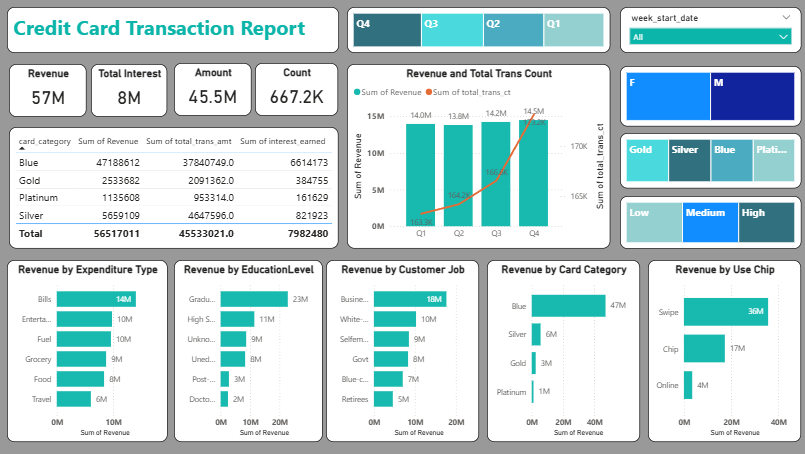

The page's visual inventory and layout, read from the dashboard file:
{"tool":"powerbi","page":{"name":"Credit_Card_Transaction","canvas":[1280,720],"ordinal":1},"visuals":[{"type":"textbox","box":[10.7,10.7,526.8,73.2],"z":0},{"type":"lineStackedColumnComboChart","title":" Revenue and Total Trans Count","fields":{"Category":["public cc_detail.qtr"],"Y":["Sum(public cc_detail.Revenue)"],"Y2":["Sum(public cc_detail.total_trans_ct)"]},"box":[550,101.8,417.9,292.9],"z":1000},{"type":"barChart","title":"Revenue by Expenditure Type","fields":{"Category":["public cc_detail.exp_type"],"Y":["Sum(public cc_detail.Revenue)"]},"box":[10.7,412.5,255.4,289.3],"z":2000},{"type":"barChart","title":"Revenue by EducationLevel","fields":{"Category":["public cust_detail.education_level"],"Y":["Sum(public cc_detail.Revenue)"]},"box":[276.8,412.5,235.7,289.3],"z":3000},{"type":"barChart","title":"Revenue by Customer Job","fields":{"Category":["public cust_detail.customer_job"],"Y":["Sum(public cc_detail.Revenue)"]},"box":[517.9,412.5,242.9,289.3],"z":4000},{"type":"barChart","title":"Revenue by Card Category","fields":{"Category":["public cc_detail.card_category"],"Y":["Sum(public cc_detail.Revenue)"]},"box":[773.2,412.5,242.9,289.3],"z":5000},{"type":"barChart","title":"Revenue by Use Chip","fields":{"Category":["public cc_detail.use_chip"],"Y":["Sum(public cc_detail.Revenue)"]},"box":[1028.6,412.5,242.9,289.3],"z":6000},{"type":"tableEx","fields":{"Values":["public cc_detail.card_category","Sum(public cc_detail.Revenue)","Sum(public cc_detail.total_trans_amt)","Sum(public cc_detail.interest_earned)"]},"box":[14.3,201.8,523.2,192.9],"z":7000},{"type":"slicer","fields":{"Values":["public cc_detail.week_start_date"]},"box":[983.9,10.7,287.5,73.2],"z":8000},{"type":"card","title":"Revenue","fields":{"Values":["Sum(public cc_detail.Revenue)"]},"box":[14.3,101.8,123.2,83.9],"z":9000},{"type":"card","title":"Total Interest","fields":{"Values":["Sum(public cc_detail.interest_earned)"]},"box":[144.6,101.8,121.4,83.9],"z":10000},{"type":"card","title":"Amount","fields":{"Values":["Sum(public cc_detail.total_trans_amt)"]},"box":[276.8,100,123.2,83.9],"z":11000},{"type":"card","title":"Count","fields":{"Values":["Sum(public cc_detail.total_trans_ct)"]},"box":[405.4,100,132.1,83.9],"z":12000},{"type":"treemap","fields":{"Group":["public cc_detail.qtr"],"Values":["Avg(public cc_detail.client_num)"]},"box":[550,10.7,417.9,73.2],"z":13000},{"type":"treemap","fields":{"Values":["Avg(public cc_detail.client_num)"],"Group":["public cust_detail.gender"]},"box":[983.9,105.4,287.5,96.4],"z":14000},{"type":"treemap","fields":{"Group":["public cc_detail.card_category"],"Values":["Avg(public cc_detail.client_num)"]},"box":[983.9,210.7,287.5,87.5],"z":15000},{"type":"treemap","fields":{"Group":["public cust_detail.IncomeGroup"],"Values":["Avg(public cc_detail.client_num)"]},"box":[983.9,310.7,287.5,83.9],"z":16000}]}

Visuals, with their boxes in screenshot pixels (x1, y1, x2, y2), scaled from the page's 1280x720 canvas onto the 805x454 screenshot:
textbox: (left=7, top=7, right=338, bottom=53)
" Revenue and Total Trans Count" lineStackedColumnComboChart: (left=346, top=64, right=609, bottom=249)
"Revenue by Expenditure Type" barChart: (left=7, top=260, right=167, bottom=443)
"Revenue by EducationLevel" barChart: (left=174, top=260, right=322, bottom=443)
"Revenue by Customer Job" barChart: (left=326, top=260, right=478, bottom=443)
"Revenue by Card Category" barChart: (left=486, top=260, right=639, bottom=443)
"Revenue by Use Chip" barChart: (left=647, top=260, right=800, bottom=443)
tableEx - public cc_detail.card_category x Sum(public cc_detail.Revenue): (left=9, top=127, right=338, bottom=249)
slicer - public cc_detail.week_start_date: (left=619, top=7, right=800, bottom=53)
"Revenue" card: (left=9, top=64, right=86, bottom=117)
"Total Interest" card: (left=91, top=64, right=167, bottom=117)
"Amount" card: (left=174, top=63, right=252, bottom=116)
"Count" card: (left=255, top=63, right=338, bottom=116)
treemap - public cc_detail.qtr x Avg(public cc_detail.client_num): (left=346, top=7, right=609, bottom=53)
treemap - Avg(public cc_detail.client_num) x public cust_detail.gender: (left=619, top=66, right=800, bottom=127)
treemap - public cc_detail.card_category x Avg(public cc_detail.client_num): (left=619, top=133, right=800, bottom=188)
treemap - public cust_detail.IncomeGroup x Avg(public cc_detail.client_num): (left=619, top=196, right=800, bottom=249)
